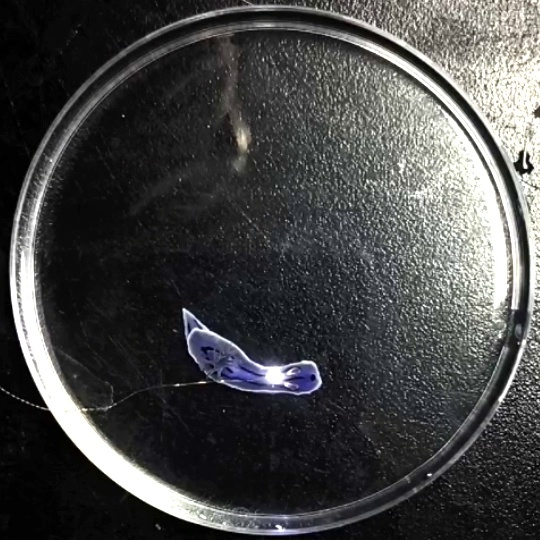sea-slug: (108, 41, 311, 388)
